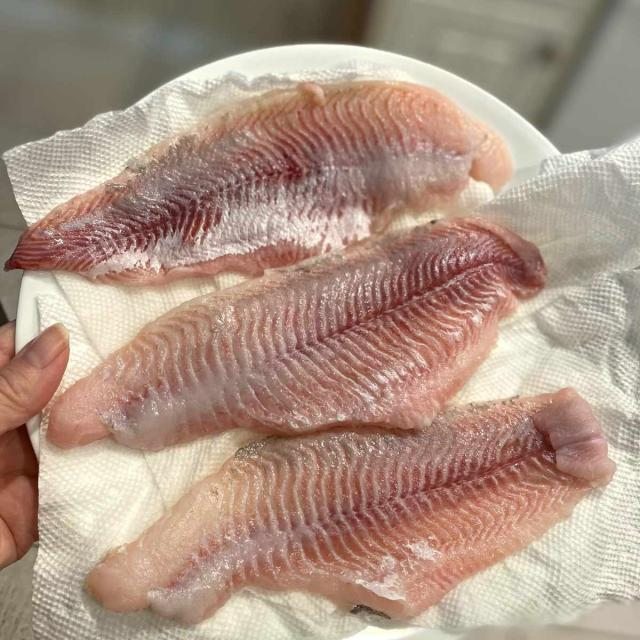Catfish: (87, 380, 610, 628), (37, 213, 539, 462), (0, 67, 531, 288)
